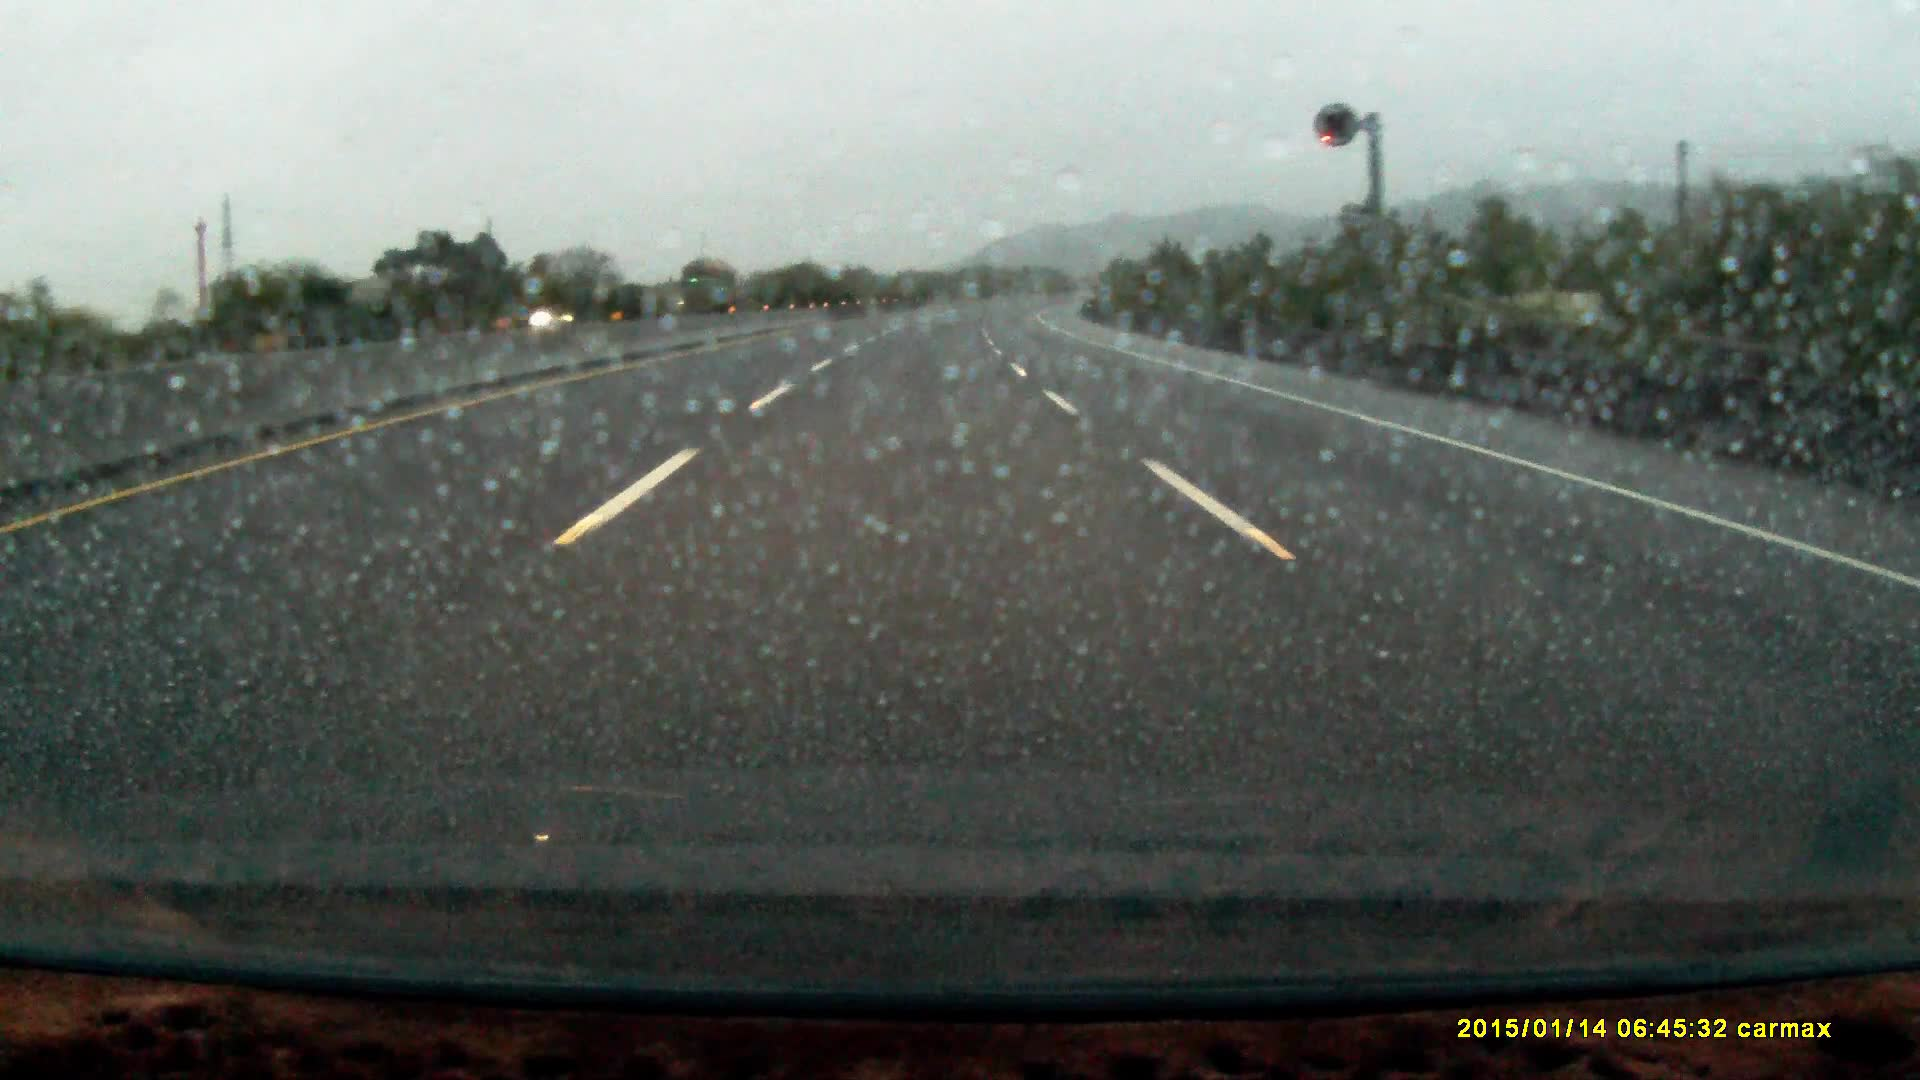vehicle: (673, 260, 736, 313), (531, 299, 599, 327)
